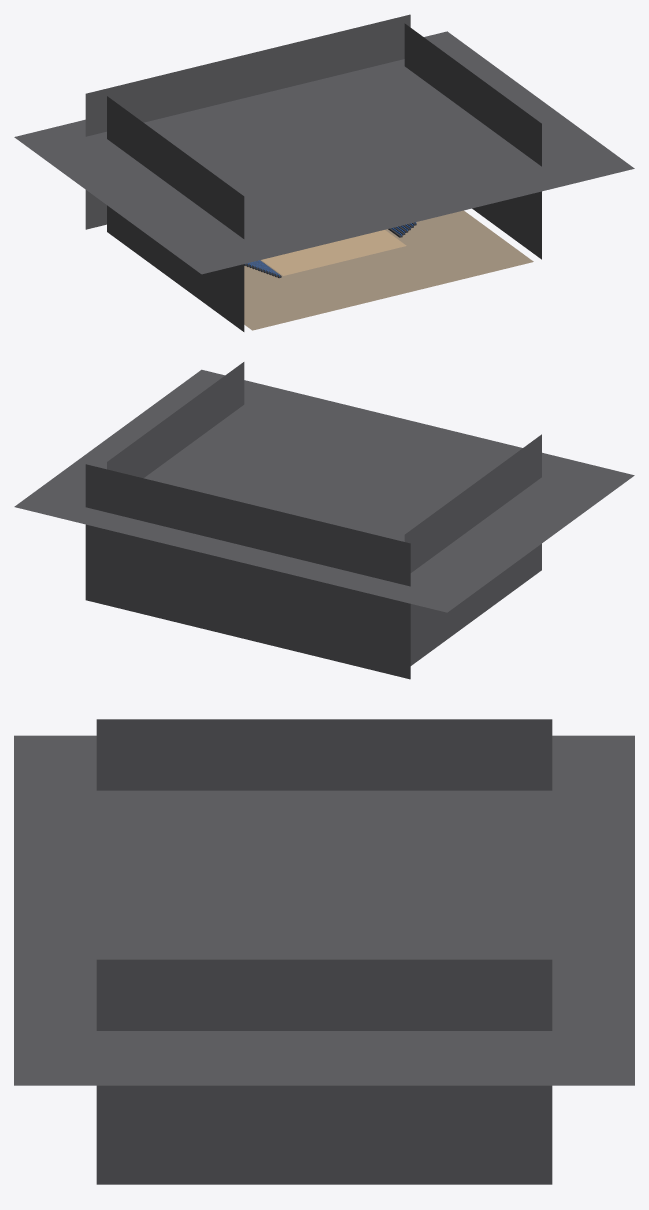
The model's file is arena.af5545b2.glb.
3 views of the same model, one above another, from view 1: azimuth 30°, elevation 25°; view 2: azimuth 150°, elevation 25°; view 3: azimuth 270°, elevation 25° (orthographic). The views are drawn at different scales.
Parts seen in each view (by area): view 1: arena_shell, arena_floor; view 2: arena_shell; view 3: arena_shell.
Boxes of the visible parts, bbox=[...] form: arena_shell: bbox=[14, 14, 634, 331]; arena_floor: bbox=[244, 210, 533, 330]; arena_shell: bbox=[14, 362, 634, 679]; arena_shell: bbox=[14, 719, 634, 1184].
Bounding box in the file's own units: 400 × 120 × 300.
